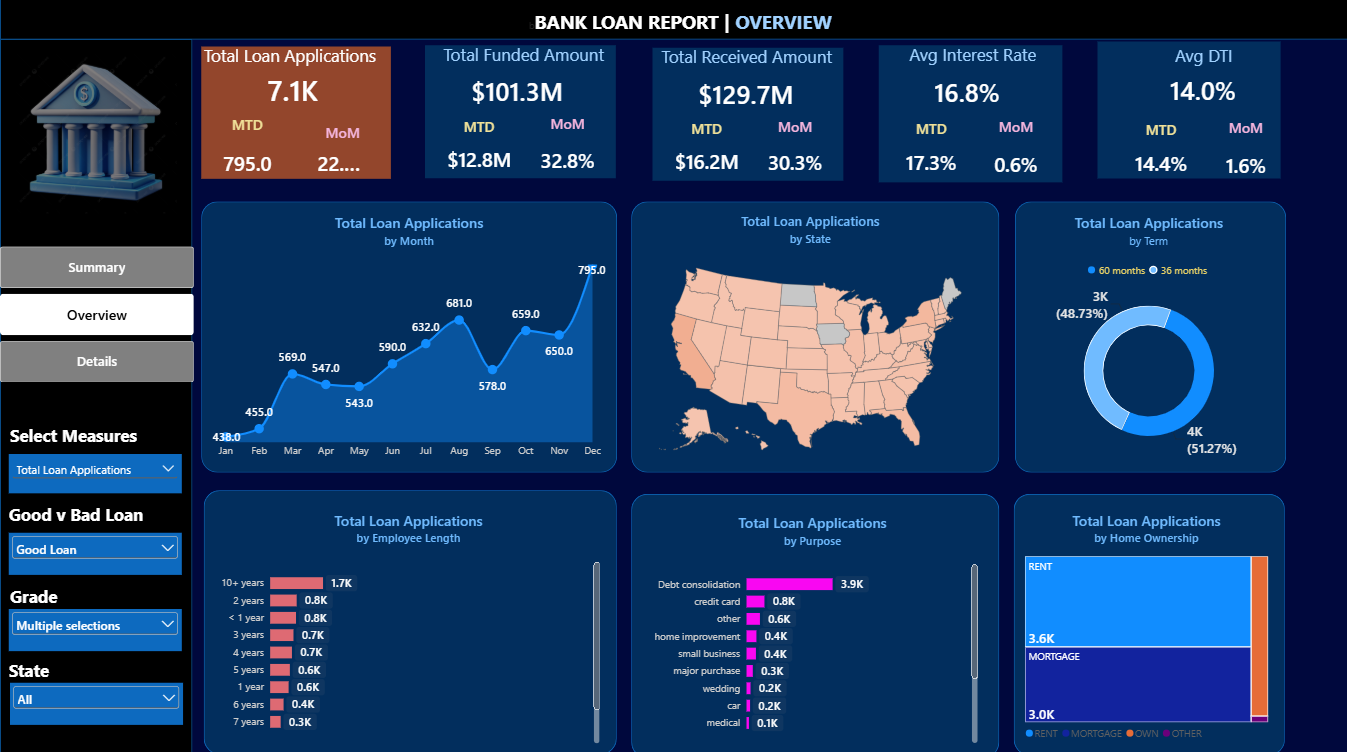

This screenshot's page, from the dashboard's own definition file:
{"tool":"powerbi","page":{"name":"Overview","canvas":[1920,1080],"ordinal":1},"visuals":[{"type":"shape","box":[1562,60,260.7,195],"z":0,"group":"g5"},{"type":"shape","box":[605.3,65.8,271.7,189.4],"z":0,"group":"g2"},{"type":"shape","box":[1251.3,65.9,261.4,195.4],"z":0,"group":"g4"},{"type":"shape","box":[286,68.1,270,188.4],"z":0,"group":"g1"},{"type":"shape","box":[930.4,69.9,271.7,189.4],"z":0,"group":"g3"},{"type":"shape","box":[286,288,592,386],"z":0},{"type":"shape","box":[0,0,1920.4,57.6],"z":1000},{"type":"cardVisual","fields":{"Data":["financial_loan.Avg DTI"]},"box":[1627.7,91.8,169.9,72.1],"z":1000,"group":"g5"},{"type":"cardVisual","fields":{"Data":["financial_loan.Total Funded Amount"]},"box":[648.7,95.1,177,70],"z":1000,"group":"g2"},{"type":"cardVisual","fields":{"Data":["financial_loan.Avg Interest Rate"]},"box":[1293,96.2,170.3,72.2],"z":1000,"group":"g4"},{"type":"cardVisual","fields":{"Data":["financial_loan.Total Loan Applications"]},"box":[329,96.8,175.9,67.6],"z":1000,"group":"g1"},{"type":"cardVisual","fields":{"Data":["financial_loan.Total Amount Received"]},"box":[973.8,99.3,177,70],"z":1000,"group":"g3"},{"type":"shape","box":[0,57.6,273.8,1023],"z":2000},{"type":"textbox","box":[613.5,61.7,263.5,65.9],"z":2000,"group":"g2"},{"type":"textbox","box":[1259.2,61.7,253.5,68],"z":2000,"group":"g4"},{"type":"textbox","box":[290,64,266,66],"z":2000,"group":"g1"},{"type":"textbox","box":[1587.1,64.1,252.8,67.8],"z":2000,"group":"g5"},{"type":"textbox","box":[926.2,66.1,275.8,65.9],"z":2000,"group":"g3"},{"type":"textbox","box":[753.3,14.4,461.1,59.7],"z":3000},{"type":"cardVisual","title":"MTD","fields":{"Data":["financial_loan.MTD Loan Applications"]},"box":[296,165.5,110,94],"z":3000,"group":"g1"},{"type":"cardVisual","title":"MTD","fields":{"Data":["financial_loan.MTD Funded Amount"]},"box":[617.8,167.2,129.7,78.2],"z":3000,"group":"g2"},{"type":"cardVisual","title":"MTD","fields":{"Data":["financial_loan.MTD Avg Int Rate"]},"box":[1263.3,170.6,124.8,80.7],"z":3000,"group":"g4"},{"type":"cardVisual","title":"MTD","fields":{"Data":["financial_loan.MTD Total Amount Received"]},"box":[942.9,171.3,129.7,78.2],"z":3000,"group":"g3"},{"type":"cardVisual","title":"MTD","fields":{"Data":["financial_loan.MTD Avg DTI"]},"box":[1591.2,172.7,124.4,80.6],"z":3000,"group":"g5"},{"type":"group","id":"g1","title":"Group 1","box":[286,64,270,195.5],"z":4000},{"type":"cardVisual","title":"MoM","fields":{"Data":["financial_loan.MoM Total Funded Amount"]},"box":[747.5,163.1,121.4,88.5],"z":4000,"group":"g2"},{"type":"cardVisual","title":"MoM","fields":{"Data":["financial_loan.MoM Avg Int Rate"]},"box":[1388.1,166.3,116.8,91.3],"z":4000,"group":"g4"},{"type":"cardVisual","title":"MoM","fields":{"Data":["financial_loan.MoM Total Amount Received"]},"box":[1072.6,167.2,121.4,88.5],"z":4000,"group":"g3"},{"type":"cardVisual","title":"MoM","fields":{"Data":["financial_loan.MoM Avg DTI"]},"box":[1715.6,168.5,116.5,91.2],"z":4000,"group":"g5"},{"type":"cardVisual","title":"MoM","fields":{"Data":["financial_loan.MoM Loan Application"]},"box":[436,176.5,104,72],"z":4000,"group":"g1"},{"type":"group","id":"g2","title":"Group 1","box":[605.3,61.7,271.7,193.5],"z":5000},{"type":"group","id":"g3","title":"Group 1","box":[926.2,66.1,275.9,193.2],"z":6000},{"type":"group","id":"g4","title":"Group 1","box":[1251.3,61.7,261.4,199.7],"z":7000},{"type":"group","id":"g5","title":"Group 1","box":[1562,60,278,200],"z":8000},{"type":"textbox","box":[354,306,236,46],"z":9000},{"type":"textbox","box":[1106,310,252,42],"z":10000},{"type":"textbox","box":[276,74,1644,150],"z":11000},{"type":"slicer","fields":{"Values":["financial_loan.address_state"]},"box":[14,974,246,60],"z":12000},{"type":"textbox","box":[12,940,86,34],"z":13000},{"type":"slicer","fields":{"Values":["financial_loan.grade"]},"box":[12,868,246,60],"z":14000},{"type":"textbox","box":[14,834,86,34],"z":15000},{"type":"slicer","fields":{"Values":["financial_loan.Good v Bad Loan"]},"box":[12,760,246,60],"z":16000},{"type":"textbox","box":[12,718,222,48],"z":17000},{"type":"areaChart","fields":{"Category":["Date Table.Month"],"Y":["financial_loan.Total Loan Applications"]},"box":[286,290,592,384],"z":18000},{"type":"slicer","fields":{"Values":["Select Measures.Select Measures"]},"box":[12,648,246,56],"z":19000},{"type":"textbox","box":[14,606,198,42],"z":20000},{"type":"shape","box":[898,288,524,386],"z":21000},{"type":"shapeMap","fields":{"Category":["financial_loan.address_state"],"Value":["financial_loan.Total Loan Applications"]},"box":[898,288,510,386],"z":22000},{"type":"shape","box":[1446,288,386,386],"z":23000},{"type":"donutChart","fields":{"Category":["financial_loan.term"],"Y":["financial_loan.Total Loan Applications"]},"box":[1448,290,374,384],"z":24000},{"type":"shape","box":[290,700,588,376],"z":25000},{"type":"barChart","fields":{"Category":["financial_loan.emp_length"],"Y":["financial_loan.Total Loan Applications"]},"box":[294,714,576,362],"z":26000},{"type":"shape","box":[898,704,524,376],"z":27000},{"type":"barChart","fields":{"Category":["financial_loan.purpose"],"Y":["financial_loan.Total Loan Applications"]},"box":[906,718,502,358],"z":28000},{"type":"shape","box":[1444,704,386,372],"z":29000},{"type":"treemap","fields":{"Group":["financial_loan.home_ownership"],"Values":["financial_loan.Total Loan Applications"]},"box":[1444,714,378,362],"z":30000},{"type":"image","box":[22,60,230,260],"z":30001},{"type":"pageNavigator","box":[0,352,276,194],"z":30002}]}

Visuals, with their boxes in screenshot pixels (x1, y1, x2, y2), scaled from the page's 1920x1080 canvas onto the 1347x752 screenshot:
shape: (x1=1096, y1=42, x2=1279, y2=178)
shape: (x1=425, y1=46, x2=615, y2=178)
shape: (x1=878, y1=46, x2=1061, y2=182)
shape: (x1=201, y1=47, x2=390, y2=179)
shape: (x1=653, y1=49, x2=843, y2=181)
shape: (x1=201, y1=201, x2=616, y2=469)
shape: (x1=0, y1=0, x2=1346, y2=40)
cardVisual - financial_loan.Avg DTI: (x1=1142, y1=64, x2=1261, y2=114)
cardVisual - financial_loan.Total Funded Amount: (x1=455, y1=66, x2=579, y2=115)
cardVisual - financial_loan.Avg Interest Rate: (x1=907, y1=67, x2=1027, y2=117)
cardVisual - financial_loan.Total Loan Applications: (x1=231, y1=67, x2=354, y2=114)
cardVisual - financial_loan.Total Amount Received: (x1=683, y1=69, x2=807, y2=118)
shape: (x1=0, y1=40, x2=192, y2=751)
textbox: (x1=430, y1=43, x2=615, y2=89)
textbox: (x1=883, y1=43, x2=1061, y2=90)
textbox: (x1=203, y1=45, x2=390, y2=91)
textbox: (x1=1113, y1=45, x2=1291, y2=92)
textbox: (x1=650, y1=46, x2=843, y2=92)
textbox: (x1=528, y1=10, x2=852, y2=52)
"MTD" cardVisual: (x1=208, y1=115, x2=285, y2=181)
"MTD" cardVisual: (x1=433, y1=116, x2=524, y2=171)
"MTD" cardVisual: (x1=886, y1=119, x2=974, y2=175)
"MTD" cardVisual: (x1=662, y1=119, x2=752, y2=174)
"MTD" cardVisual: (x1=1116, y1=120, x2=1204, y2=176)
"Group 1" group: (x1=201, y1=45, x2=390, y2=181)
"MoM" cardVisual: (x1=524, y1=114, x2=610, y2=175)
"MoM" cardVisual: (x1=974, y1=116, x2=1056, y2=179)
"MoM" cardVisual: (x1=752, y1=116, x2=838, y2=178)
"MoM" cardVisual: (x1=1204, y1=117, x2=1285, y2=181)
"MoM" cardVisual: (x1=306, y1=123, x2=379, y2=173)
"Group 1" group: (x1=425, y1=43, x2=615, y2=178)
"Group 1" group: (x1=650, y1=46, x2=843, y2=181)
"Group 1" group: (x1=878, y1=43, x2=1061, y2=182)
"Group 1" group: (x1=1096, y1=42, x2=1291, y2=181)
textbox: (x1=248, y1=213, x2=414, y2=245)
textbox: (x1=776, y1=216, x2=953, y2=245)
textbox: (x1=194, y1=52, x2=1346, y2=156)
slicer - financial_loan.address_state: (x1=10, y1=678, x2=182, y2=720)
textbox: (x1=8, y1=655, x2=69, y2=678)
slicer - financial_loan.grade: (x1=8, y1=604, x2=181, y2=646)
textbox: (x1=10, y1=581, x2=70, y2=604)
slicer - financial_loan.Good v Bad Loan: (x1=8, y1=529, x2=181, y2=571)
textbox: (x1=8, y1=500, x2=164, y2=533)
areaChart - Date Table.Month x financial_loan.Total Loan Applications: (x1=201, y1=202, x2=616, y2=469)
slicer - Select Measures.Select Measures: (x1=8, y1=451, x2=181, y2=490)
textbox: (x1=10, y1=422, x2=149, y2=451)
shape: (x1=630, y1=201, x2=998, y2=469)
shapeMap - financial_loan.address_state x financial_loan.Total Loan Applications: (x1=630, y1=201, x2=988, y2=469)
shape: (x1=1014, y1=201, x2=1285, y2=469)
donutChart - financial_loan.term x financial_loan.Total Loan Applications: (x1=1016, y1=202, x2=1278, y2=469)
shape: (x1=203, y1=487, x2=616, y2=749)
barChart - financial_loan.emp_length x financial_loan.Total Loan Applications: (x1=206, y1=497, x2=610, y2=749)
shape: (x1=630, y1=490, x2=998, y2=751)
barChart - financial_loan.purpose x financial_loan.Total Loan Applications: (x1=636, y1=500, x2=988, y2=749)
shape: (x1=1013, y1=490, x2=1284, y2=749)
treemap - financial_loan.home_ownership x financial_loan.Total Loan Applications: (x1=1013, y1=497, x2=1278, y2=749)
image: (x1=15, y1=42, x2=177, y2=223)
pageNavigator: (x1=0, y1=245, x2=194, y2=380)
